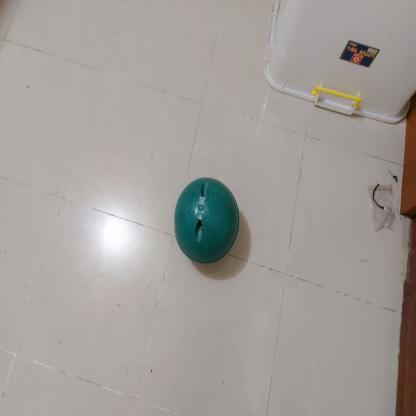green_buoy: (172, 173, 242, 268)
